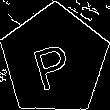P_N: (30, 31, 79, 90)
